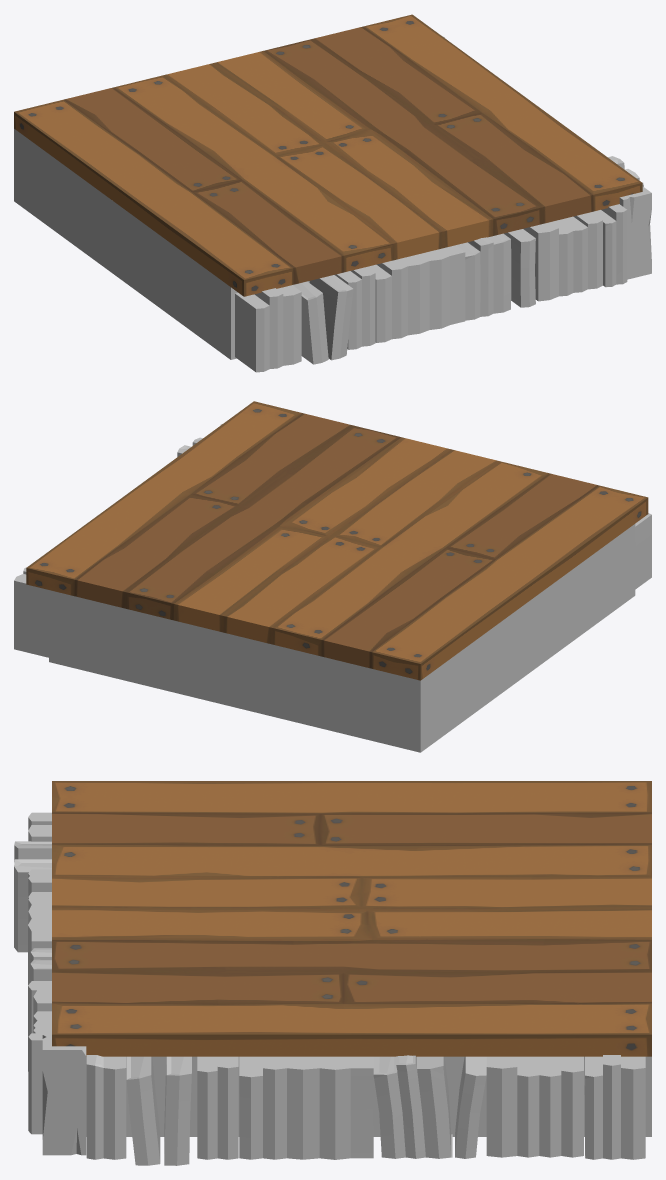
Rendered from SM_Bld_Book_Platform_01.fbx.
The picture shows the model from 3 angles, top to bottom: view 1: azimuth 30°, elevation 25°; view 2: azimuth 150°, elevation 25°; view 3: azimuth 270°, elevation 25°; orthographic projection. The views are drawn at different scales.
Visible parts, largest first — view 1: SM_Bld_Book_Platform_01; view 2: SM_Bld_Book_Platform_01; view 3: SM_Bld_Book_Platform_01.
Boxes of the visible parts, bbox=[...] form: SM_Bld_Book_Platform_01: bbox=[14, 14, 651, 372]; SM_Bld_Book_Platform_01: bbox=[14, 401, 651, 752]; SM_Bld_Book_Platform_01: bbox=[14, 781, 651, 1165].
Size of the model in its own units: 267 by 53.72 by 266.
